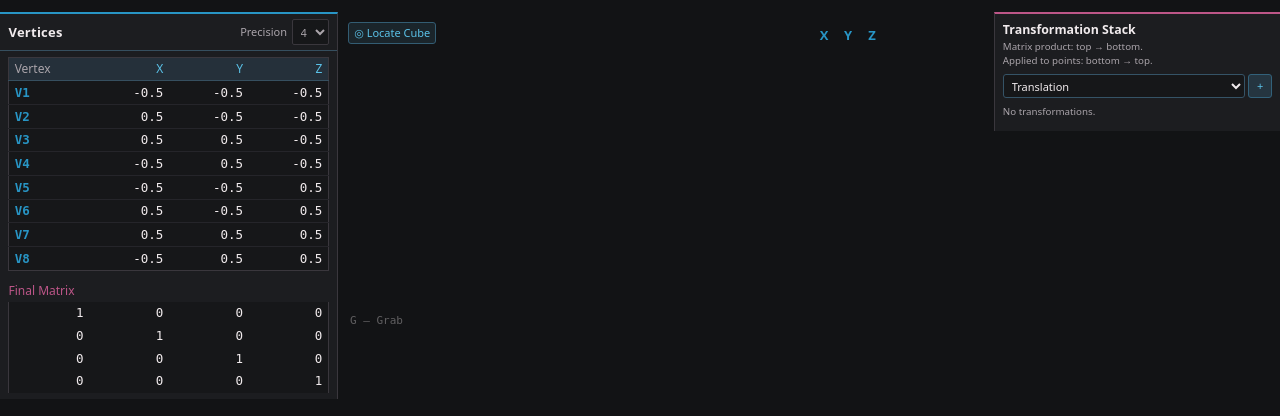
transformation stack integration › updates Final Matrix, current vertex coordinates and the renderer together when Translation X becomes 2
Select "Translation" in the dropdown named "transform-type" at (1124, 86), box [1003, 74, 1245, 98]
Submit the form, box [1003, 74, 1272, 98]
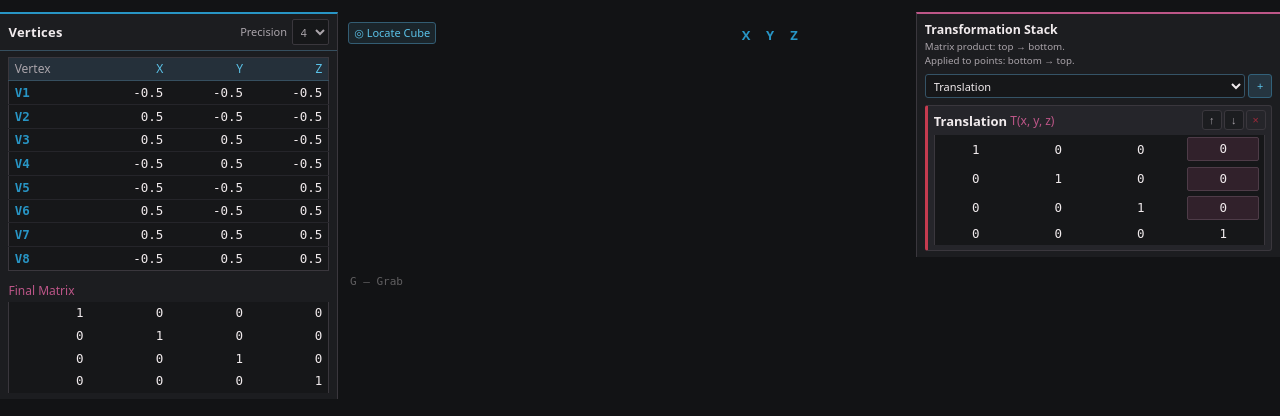
Replace the text in the number field named "Translation X matrix cell" with "2" at (1223, 149), box [1187, 137, 1259, 161]
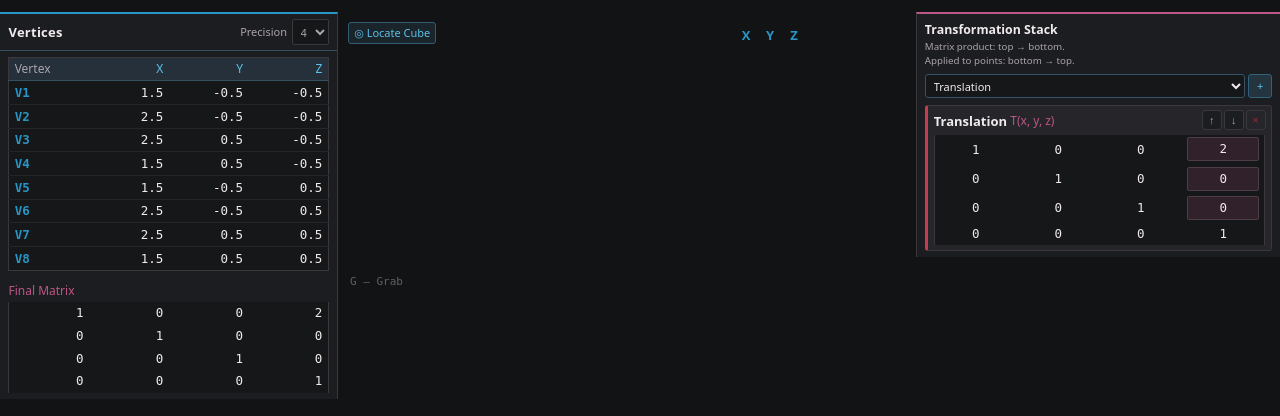
Expected: the cells read "1.5", "-0.5", "-0.5", in this order, [89, 81, 168, 104]; [168, 81, 248, 104]; [248, 81, 328, 104]
Expected: the cell "2" is shown, [248, 302, 328, 324]
